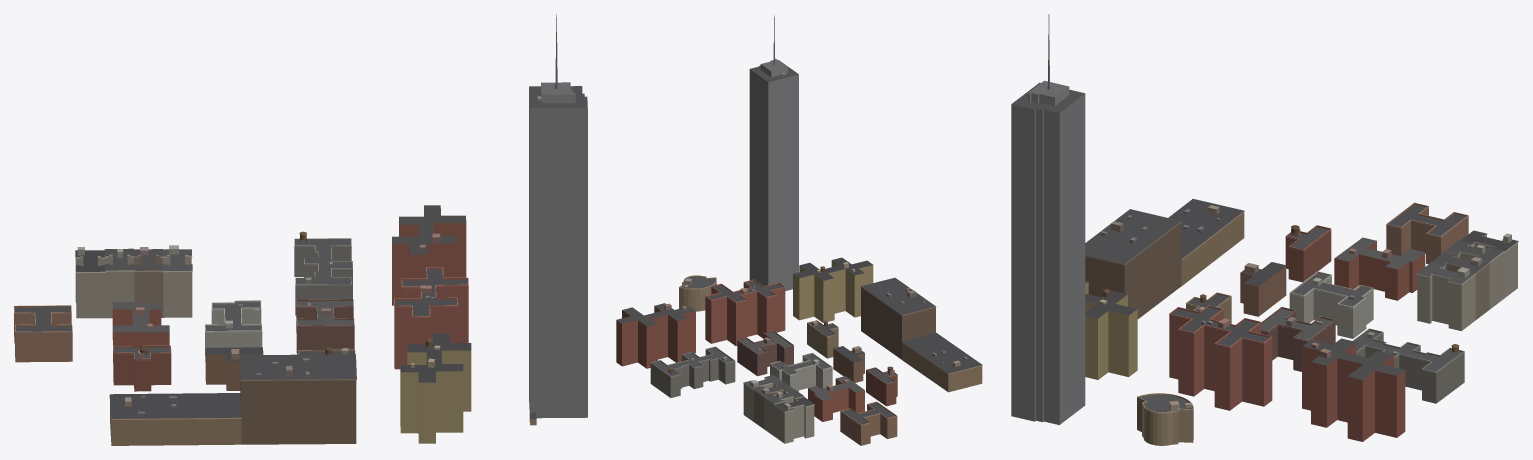
File: -1_6.bld.glb
3 views of the same model, side by side, from view 1: azimuth 30°, elevation 25°; view 2: azimuth 150°, elevation 25°; view 3: azimuth 270°, elevation 25° (orthographic). The views are drawn at different scales.
Visible parts, largest first — view 1: -1_6; view 2: -1_6; view 3: -1_6.
Part boxes in pixels (x1,y1,x2,y2): -1_6: (14, 14, 587, 445); -1_6: (616, 15, 982, 445); -1_6: (1011, 14, 1518, 445).
Bounding box in the file's own units: 272 × 228 × 265.
